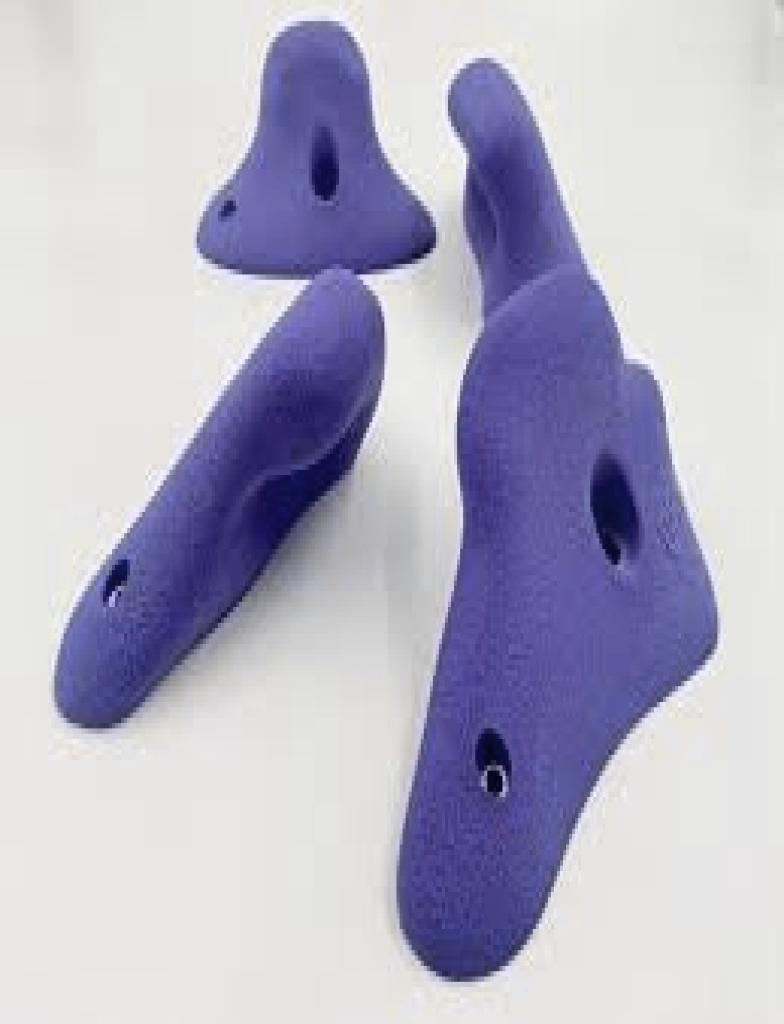jug: (397, 58, 714, 976), (54, 269, 381, 723), (197, 21, 433, 274)
